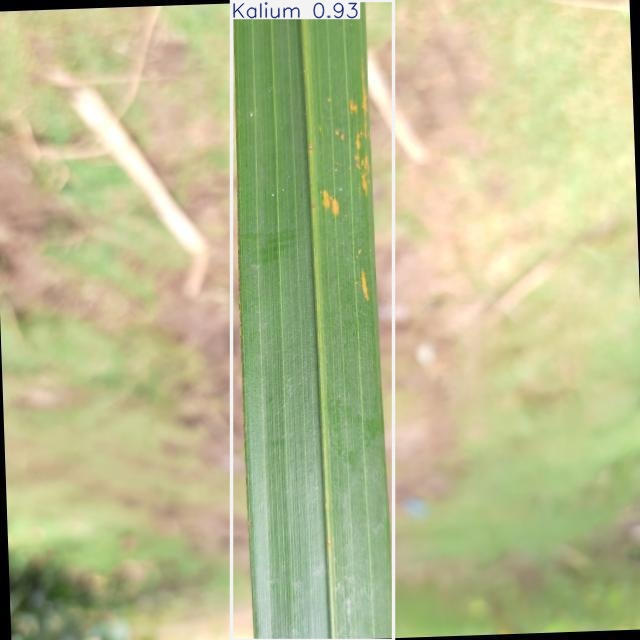Kalium: (231, 1, 394, 640)
